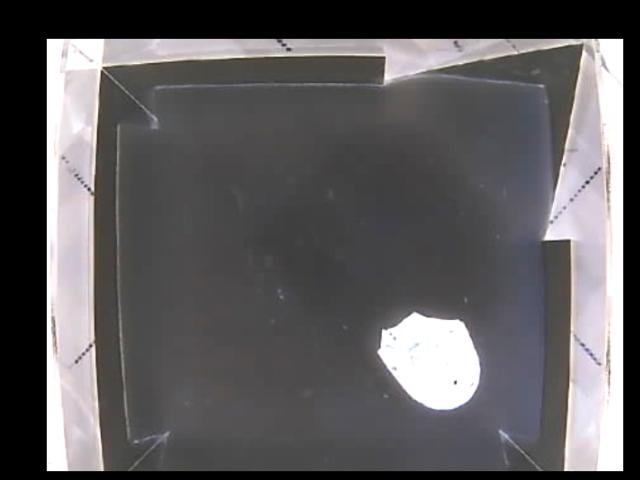Shell: (377, 309, 479, 408)
